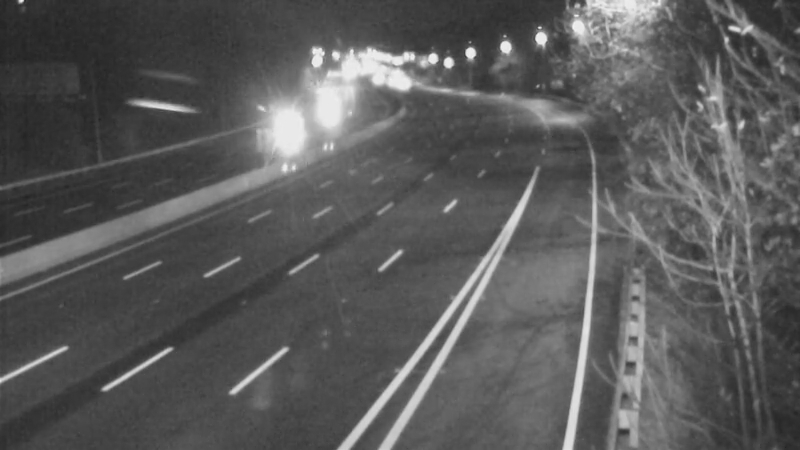vehicle: (349, 56, 399, 106), (373, 56, 423, 106), (271, 101, 321, 151), (305, 83, 355, 133)
